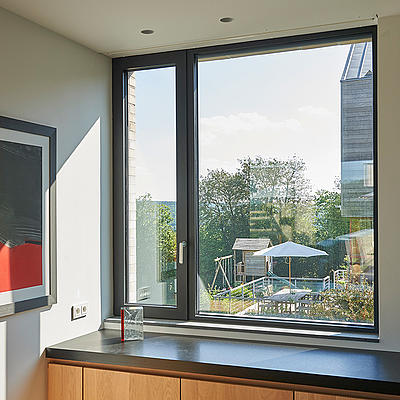windows: (113, 58, 377, 338)
